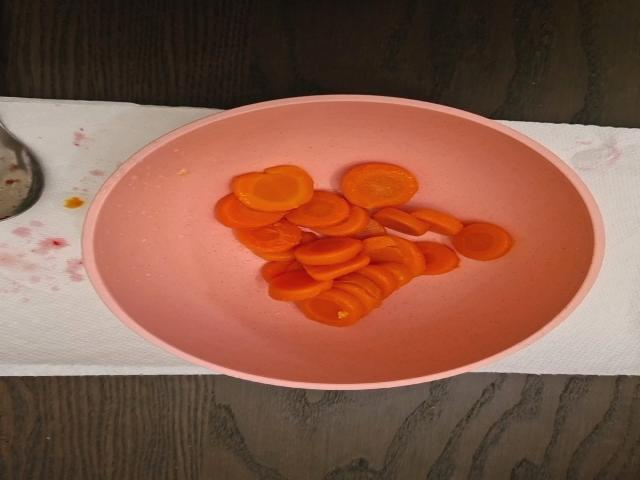kichen waste: (214, 162, 514, 326)
